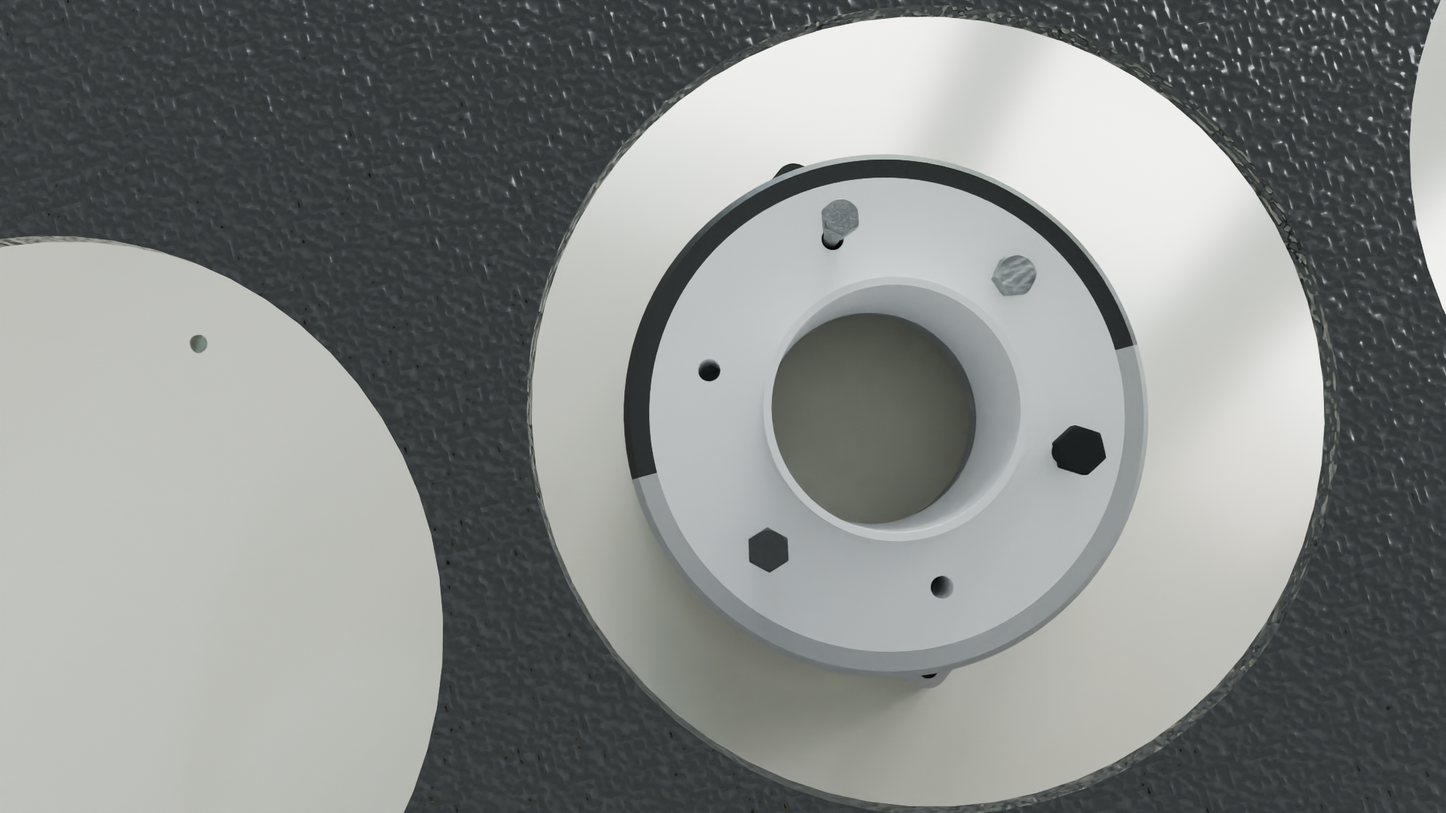bolt: (1057, 425, 1106, 475), (749, 528, 789, 573), (995, 255, 1037, 294), (822, 198, 859, 236)
